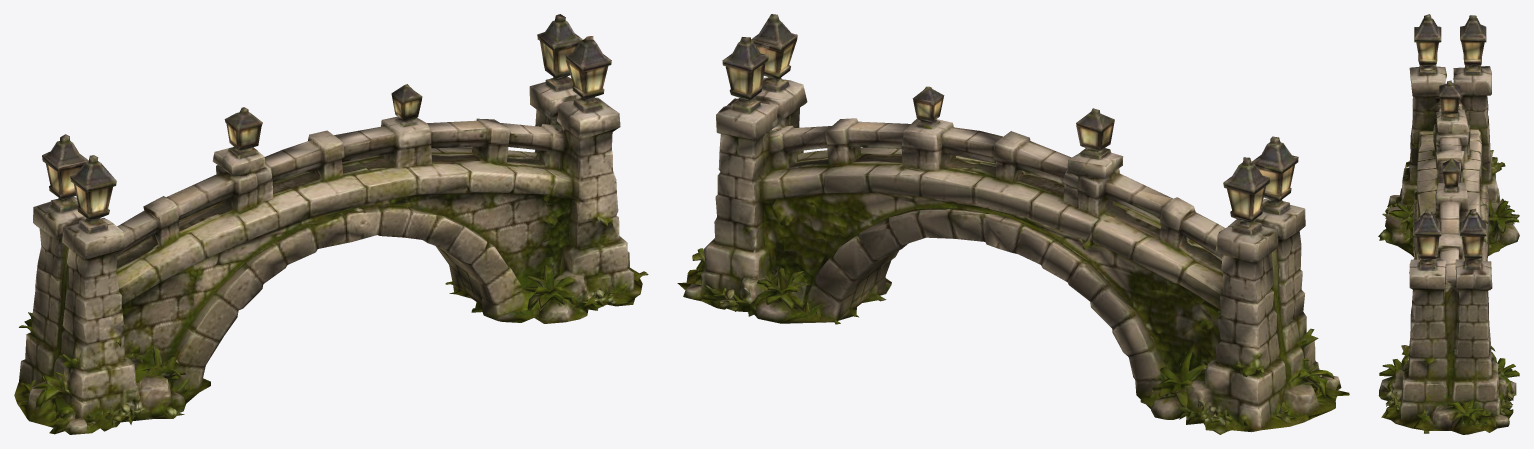
The model's file is bridge-stone.glb.
The picture shows the model from 3 angles, left to right: view 1: azimuth 30°, elevation 25°; view 2: azimuth 150°, elevation 25°; view 3: azimuth 270°, elevation 25°; orthographic projection. The views are drawn at different scales.
Visible parts, largest first — view 1: Mesh1.0; view 2: Mesh1.0; view 3: Mesh1.0.
Part boxes in pixels (box(x1,y1,x2,y2)): Mesh1.0: box(14, 14, 648, 434); Mesh1.0: box(677, 14, 1349, 434); Mesh1.0: box(1378, 14, 1519, 434).
Size of the model in its own units: 1.9 by 0.7402 by 0.4685.
Materials: 1 (1 with a texture image).
